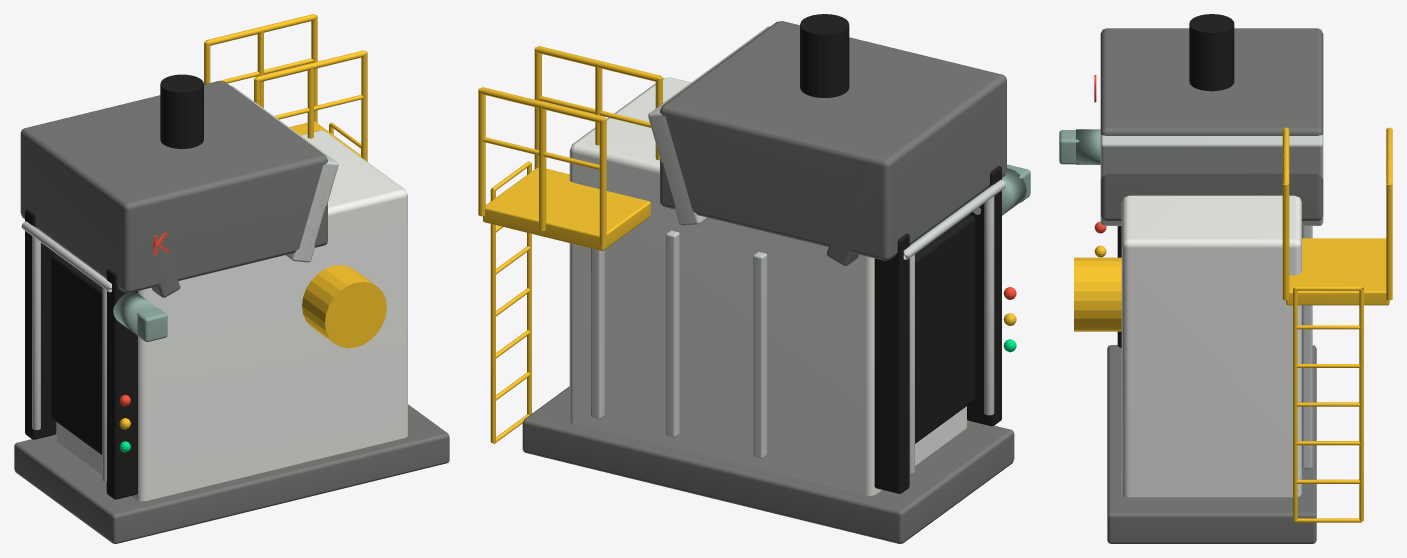
The model's file is photo_tempering_furnace.glb.
3 views of the same model, side by side, from view 1: azimuth 30°, elevation 25°; view 2: azimuth 150°, elevation 25°; view 3: azimuth 270°, elevation 25° (orthographic). The views are drawn at different scales.
Visible parts, largest first — view 1: temper_tall_body_shell, temper_smoke_hood_box, temper_base_frame, temper_large_lift_door_black, temper_front_black_column_left, temper_yellow_blower_side, temper_front_black_column_right, temper_top_exhaust_stack, temper_hood_sloped_rear, temper_vertical_lift_screw_0.55, temper_hood_sloped_front, temper_door_lift_shaft (+6 smaller); view 2: temper_tall_body_shell, temper_smoke_hood_box, temper_base_frame, temper_large_lift_door_black, temper_front_black_column_right, temper_side_platform_deck, temper_front_black_column_left, temper_top_exhaust_stack, temper_side_reinforcement_rib_-0.3, temper_side_reinforcement_rib_0.3, temper_vertical_lift_screw_-0.55, temper_hood_sloped_rear (+14 smaller); view 3: temper_tall_body_shell, temper_smoke_hood_box, temper_base_frame, temper_hood_sloped_rear, temper_side_platform_deck, temper_yellow_blower_side, temper_top_exhaust_stack, temper_side_reinforcement_rib_0.9, temper_ladder_ladder_left, temper_ladder_ladder_right, temper_side_platform_post_1.5_0.6, temper_door_drive_motor_motor_body (+3 smaller).
Part boxes in pixels (<box>): temper_tall_body_shell: <box>56,130,407,501</box>; temper_smoke_hood_box: <box>20,81,327,292</box>; temper_base_frame: <box>14,404,449,543</box>; temper_large_lift_door_black: <box>51,254,102,454</box>; temper_front_black_column_left: <box>106,269,137,499</box>; temper_yellow_blower_side: <box>302,265,386,348</box>; temper_front_black_column_right: <box>25,209,56,439</box>; temper_top_exhaust_stack: <box>160,74,203,148</box>; temper_hood_sloped_rear: <box>230,85,338,262</box>; temper_vertical_lift_screw_0.55: <box>32,236,40,429</box>; temper_hood_sloped_front: <box>138,207,180,297</box>; temper_door_lift_shaft: <box>21,221,111,292</box>; temper_tall_body_shell: <box>569,77,967,495</box>; temper_smoke_hood_box: <box>660,21,1006,260</box>; temper_base_frame: <box>522,386,1014,543</box>; temper_large_lift_door_black: <box>915,215,975,443</box>; temper_front_black_column_right: <box>874,233,909,493</box>; temper_side_platform_deck: <box>483,167,650,250</box>; temper_front_black_column_left: <box>967,166,1001,426</box>; temper_top_exhaust_stack: <box>800,14,849,97</box>; temper_side_reinforcement_rib_-0.3: <box>753,252,767,458</box>; temper_side_reinforcement_rib_0.3: <box>665,230,679,437</box>; temper_vertical_lift_screw_-0.55: <box>984,196,994,415</box>; temper_hood_sloped_rear: <box>648,26,770,226</box>; temper_tall_body_shell: <box>1121,195,1301,497</box>; temper_smoke_hood_box: <box>1100,28,1323,220</box>; temper_base_frame: <box>1107,345,1316,543</box>; temper_hood_sloped_rear: <box>1100,134,1323,225</box>; temper_side_platform_deck: <box>1286,238,1389,305</box>; temper_yellow_blower_side: <box>1074,257,1121,331</box>; temper_top_exhaust_stack: <box>1189,14,1234,91</box>; temper_side_reinforcement_rib_0.9: <box>1302,305,1312,468</box>; temper_ladder_ladder_left: <box>1293,287,1297,521</box>; temper_ladder_ladder_right: <box>1359,287,1363,521</box>; temper_side_platform_post_1.5_0.6: <box>1282,183,1289,300</box>; temper_door_drive_motor_motor_body: <box>1076,129,1100,164</box>.
Bounding box in the file's own units: 3.09 × 3.43 × 2.52.
